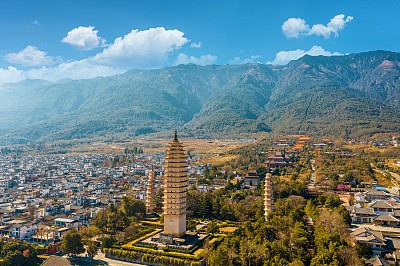ThreePagoda: (162, 129, 187, 238)
